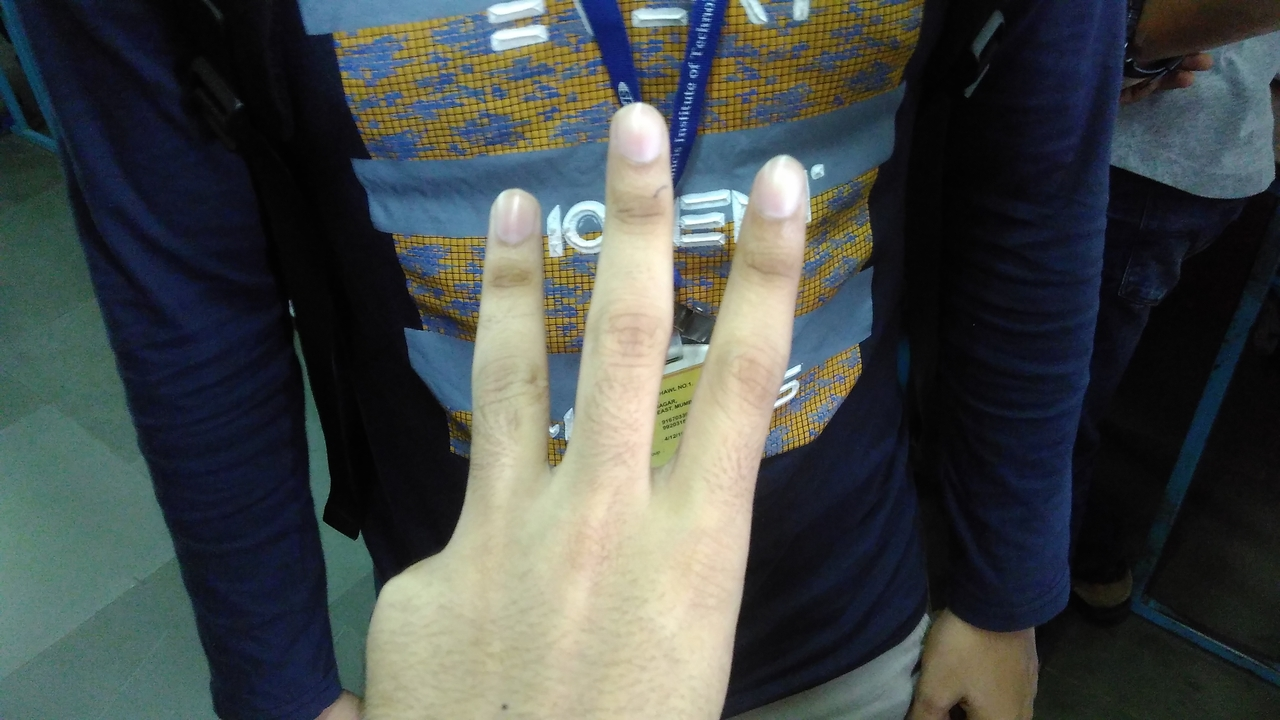fingertip: (600, 92, 674, 168), (742, 150, 814, 224), (478, 178, 544, 250)
